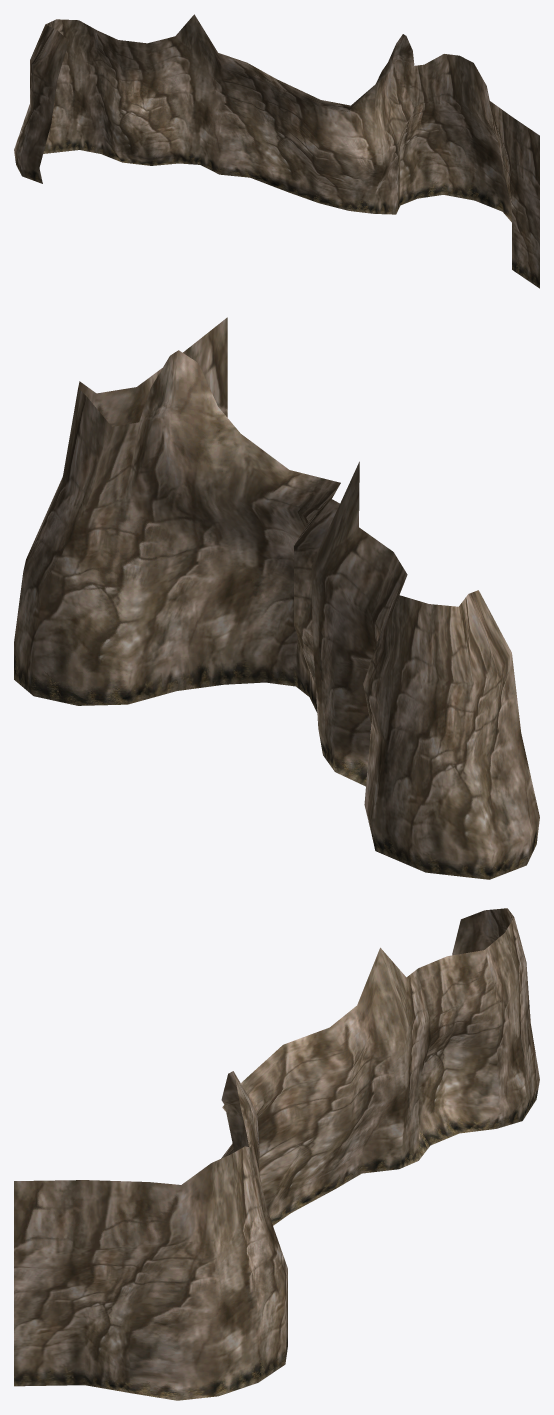
Rendered from OVERHILL_A_01_LINE17.fbx.
3 renders of one model, top to bottom at view 1: azimuth 30°, elevation 25°; view 2: azimuth 150°, elevation 25°; view 3: azimuth 270°, elevation 25°, orthographic. The views are drawn at different scales.
Visible parts, largest first — view 1: OVERHILL_A_01_LINE17; view 2: OVERHILL_A_01_LINE17; view 3: OVERHILL_A_01_LINE17.
Part boxes in pixels (x1,y1,x2,y2): OVERHILL_A_01_LINE17: [14, 14, 539, 288]; OVERHILL_A_01_LINE17: [14, 317, 539, 879]; OVERHILL_A_01_LINE17: [14, 908, 539, 1400].
Bounding box in the file's own units: 169868 × 96081 × 151537.
2 materials, 2 textured.
